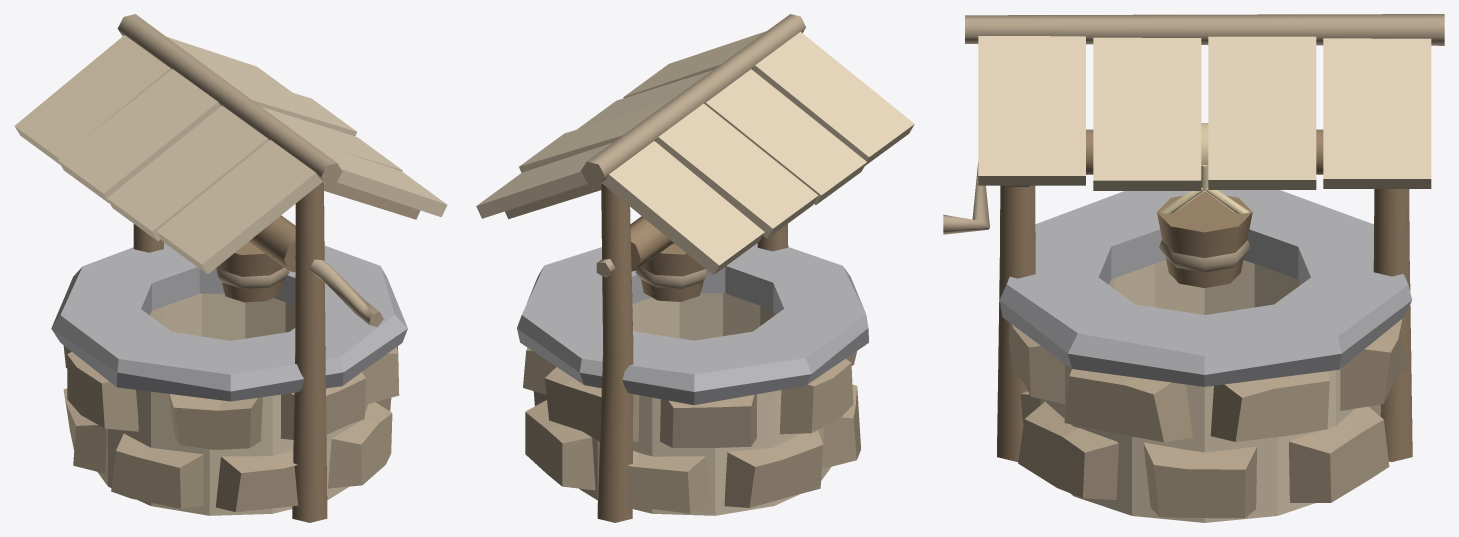
The model's file is building.well.glb.
3 views of the same model, side by side, from view 1: azimuth 30°, elevation 25°; view 2: azimuth 150°, elevation 25°; view 3: azimuth 270°, elevation 25° (orthographic). The views are drawn at different scales.
Parts seen in each view (by area): view 1: Paint, PaintDark, Stone, Wood; view 2: Paint, PaintDark, Stone, Wood; view 3: Paint, PaintDark, Stone, Wood, Rope.
Boxes of the visible parts, x1,y1,x2,y2 form: Paint: [14, 35, 447, 515]; PaintDark: [63, 14, 420, 512]; Stone: [51, 243, 407, 401]; Wood: [133, 182, 327, 522]; Paint: [476, 31, 914, 515]; PaintDark: [505, 14, 860, 513]; Stone: [517, 243, 868, 405]; Wood: [597, 183, 788, 522]; Paint: [978, 36, 1431, 522]; PaintDark: [943, 14, 1444, 518]; Stone: [999, 190, 1411, 386]; Wood: [997, 129, 1412, 461]; Rope: [1159, 123, 1249, 214].
Size of the model in its own units: 0.8686 by 1 by 1.05.
